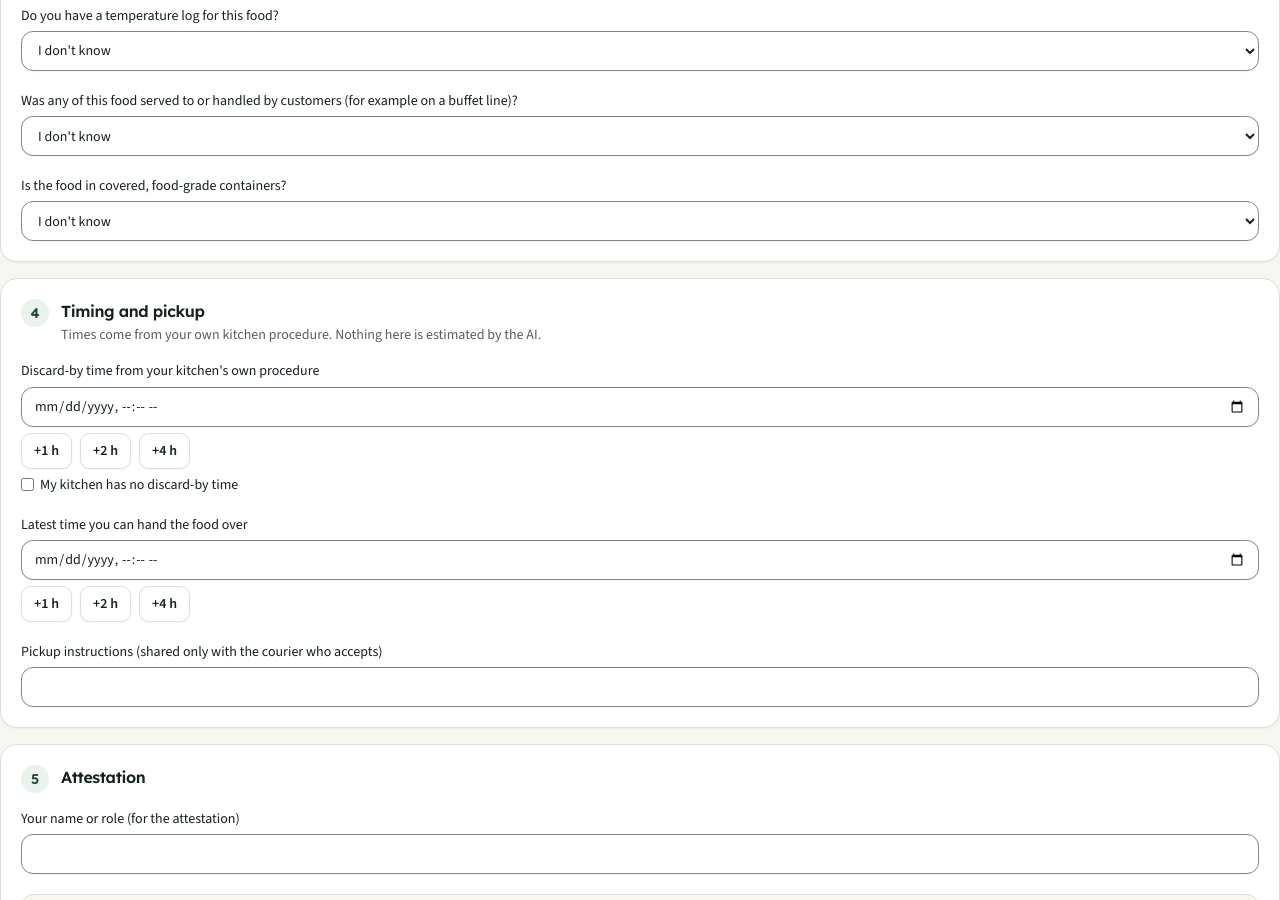
it: time shortcuts › the discard-by shortcuts set the discard-by time and are off while 'no discard-by time' is ticked
(page scrolled)
Click the 1st button "+4 h": (164,450) x1=139 y1=432 x2=190 y2=468
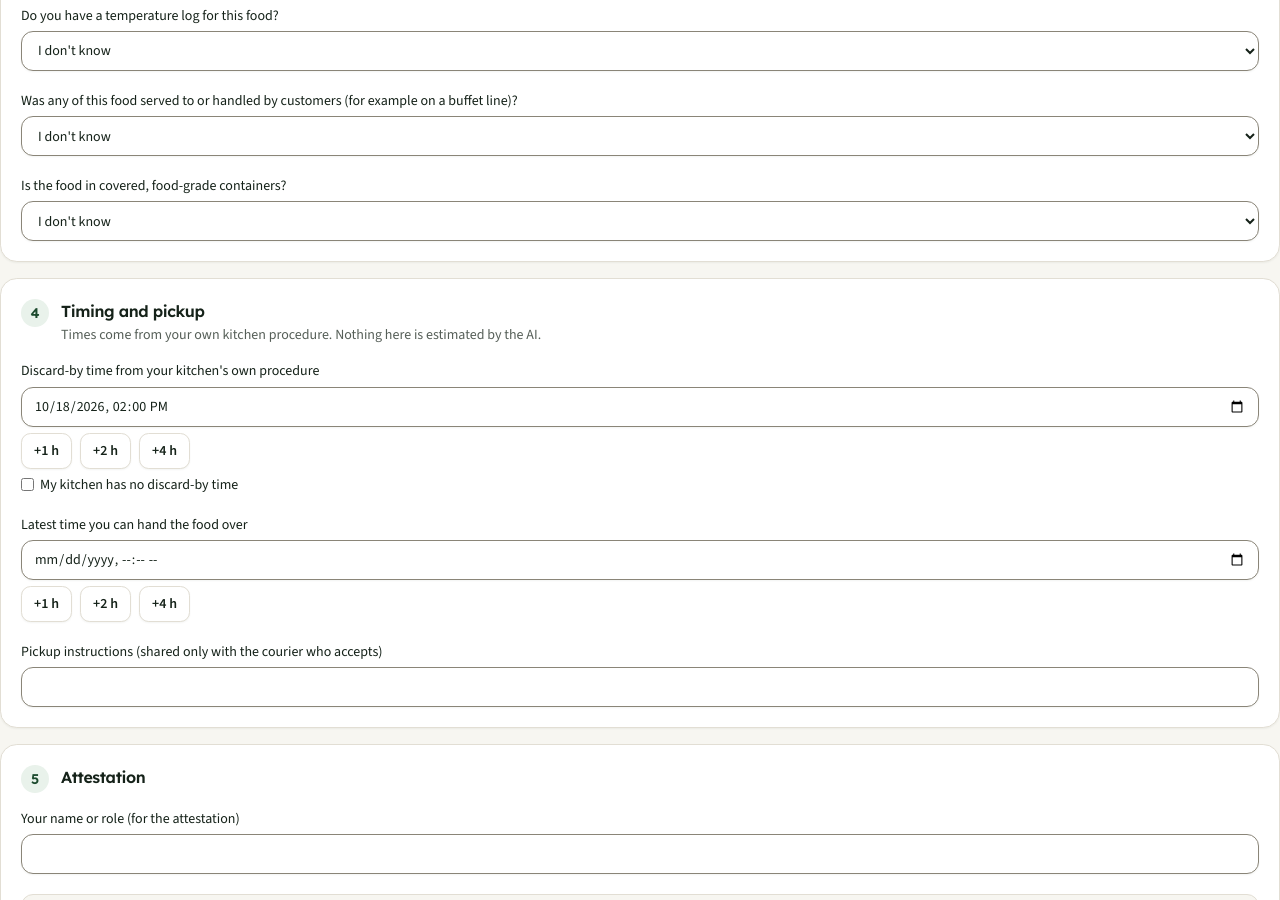
Expected: the field labelled "Discard-by time from your kitchen's own procedure" holds "2026-10-18T14:00", x1=21 y1=386 x2=1259 y2=426
Click the checkbox labelled "My kitchen has no discard-by time": (28,484) x1=21 y1=478 x2=34 y2=491
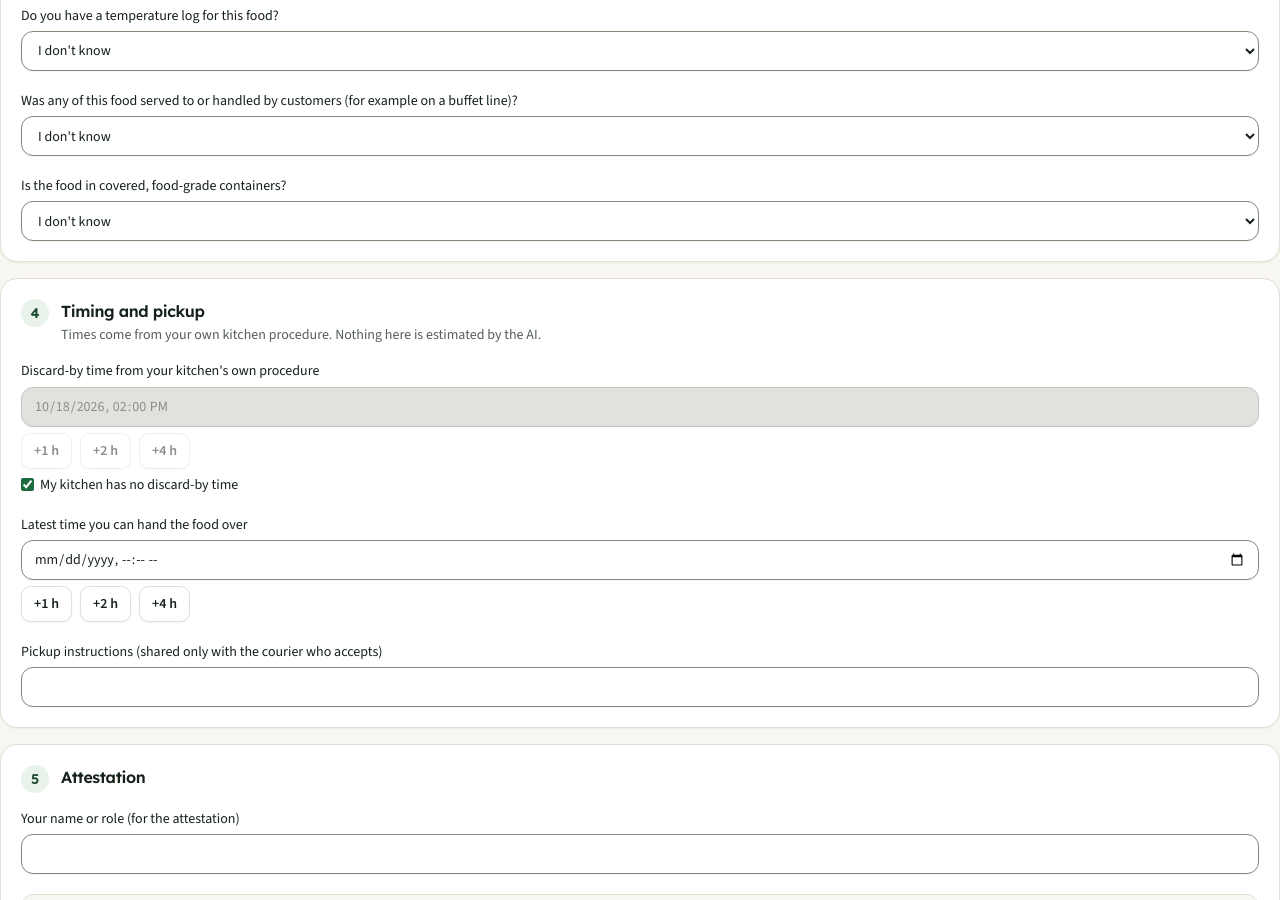
Expected: the 1st button "+1 h" is disabled, x1=21 y1=432 x2=72 y2=468
